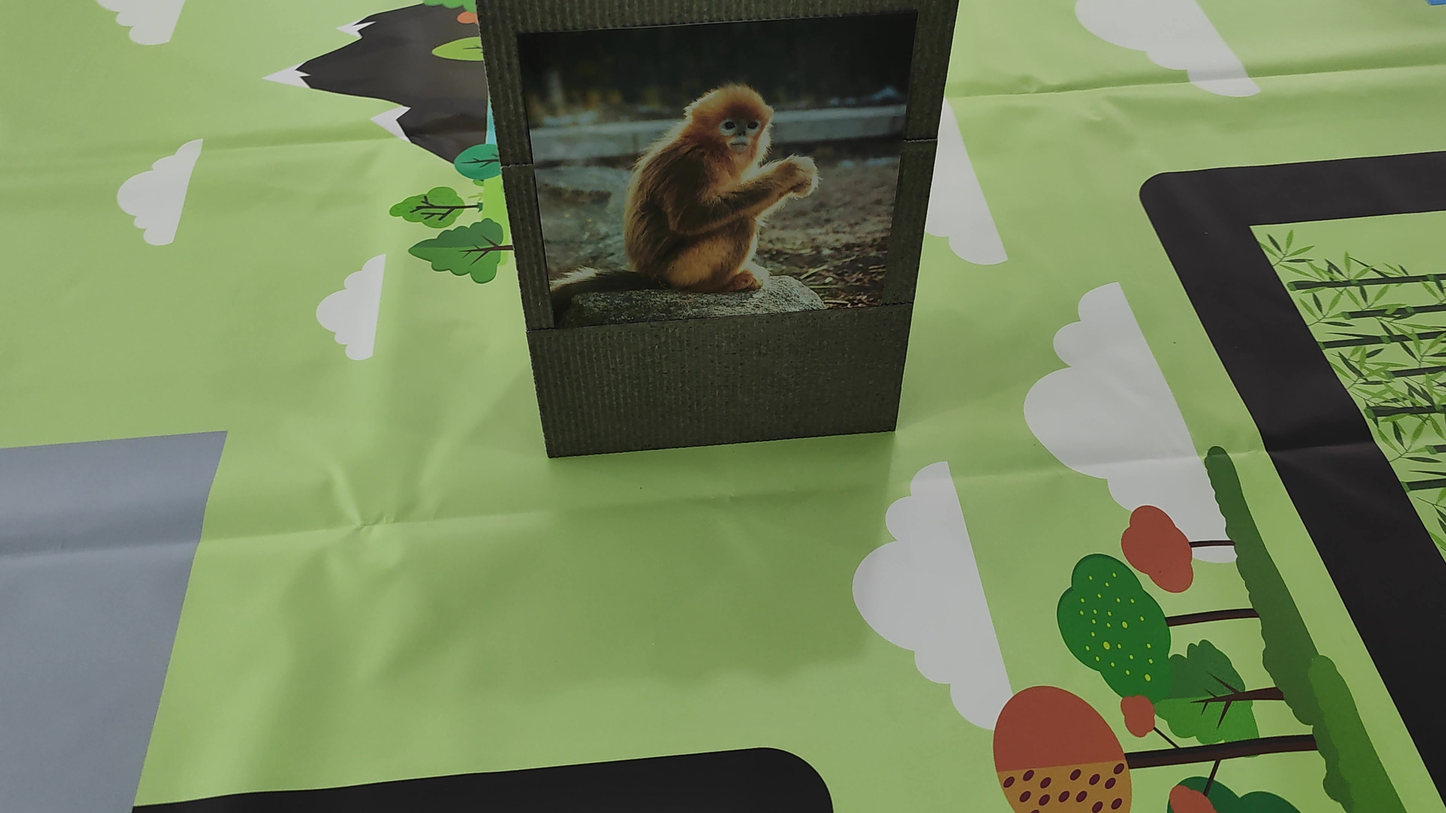monkey: (596, 70, 836, 316)
